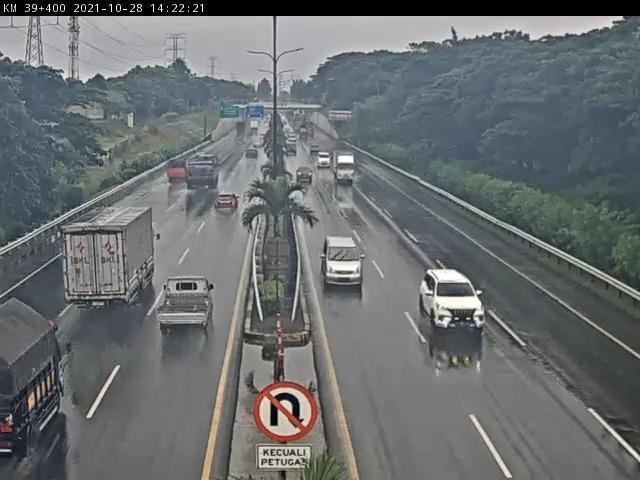car: (419, 272, 484, 335), (156, 276, 214, 339), (319, 235, 368, 288), (213, 193, 241, 215), (296, 166, 314, 185)
truck: (1, 295, 67, 460), (64, 207, 159, 309), (186, 153, 222, 191), (333, 150, 358, 185), (165, 159, 190, 183)
